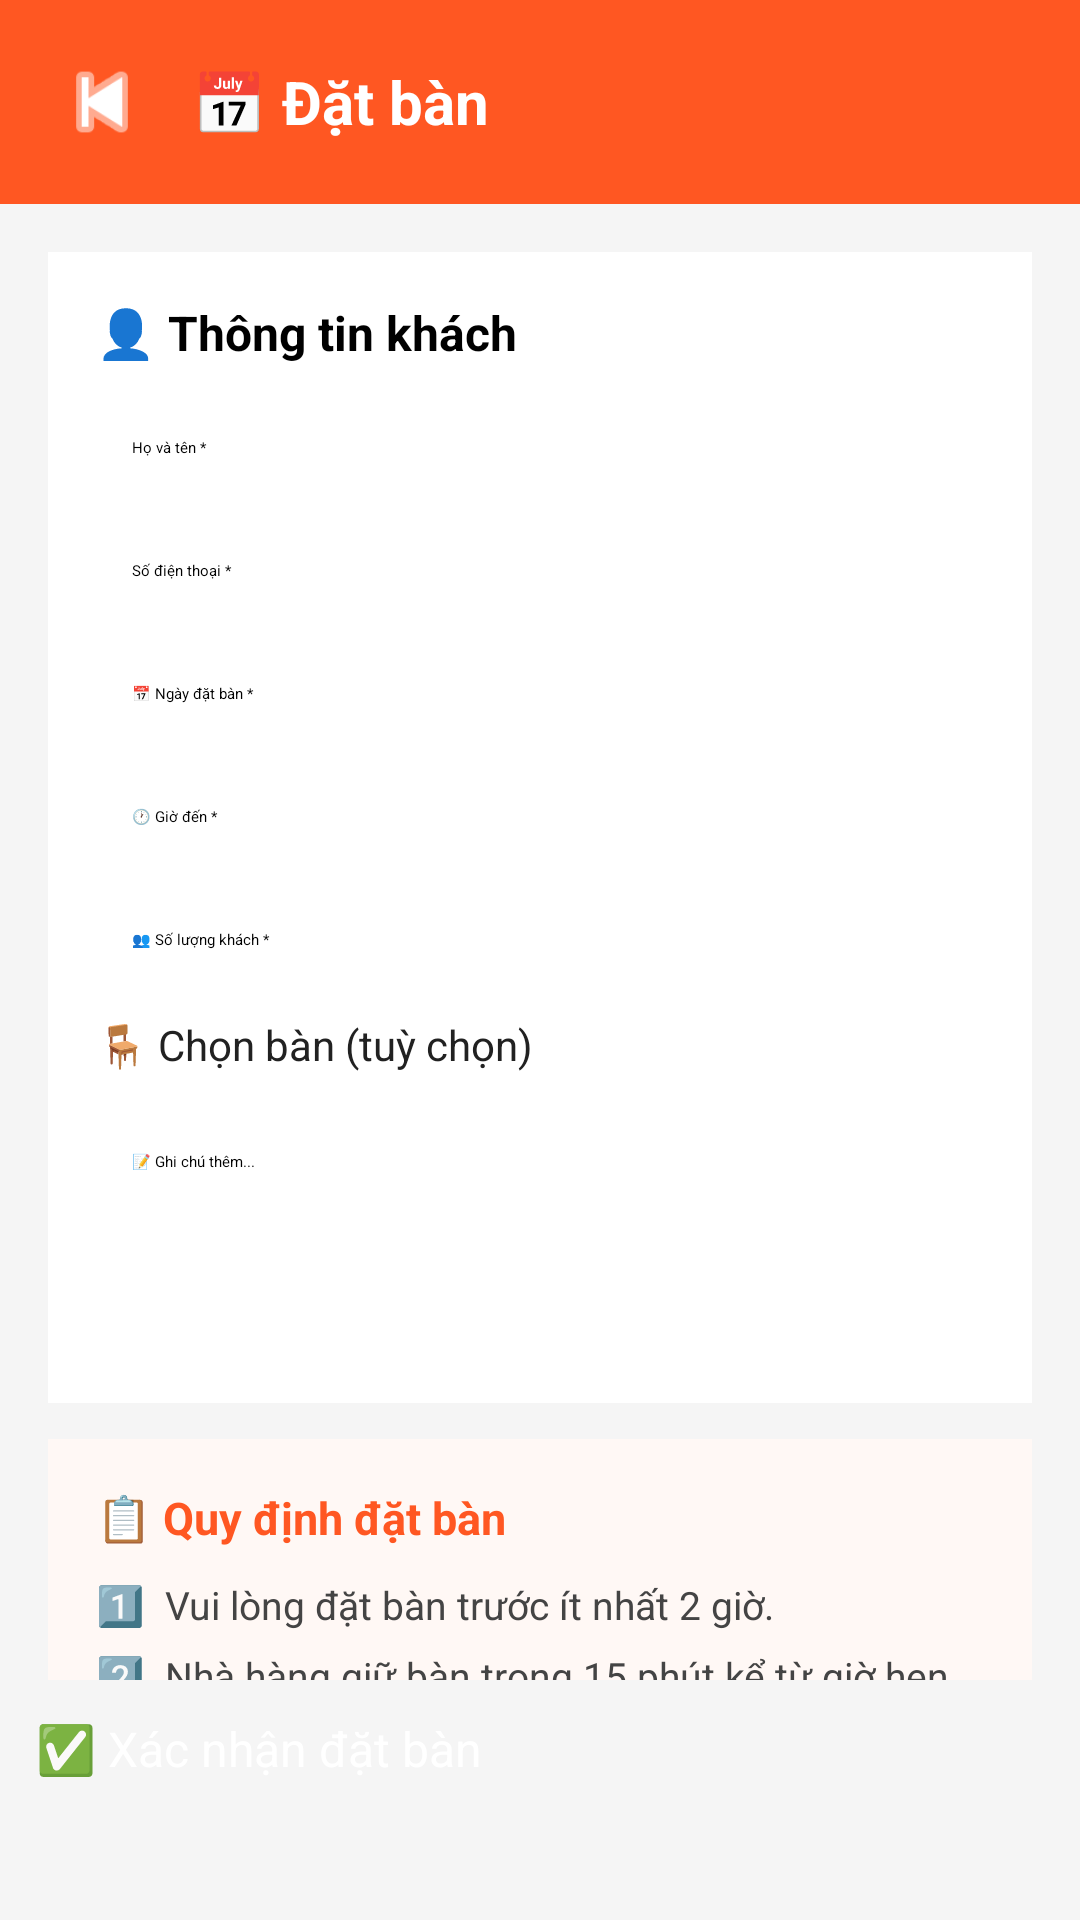

Screen size 1080x1920. Icon name, then its box in pixels as (x1, y1, x2, y2):
previous: (76, 71, 128, 133)
